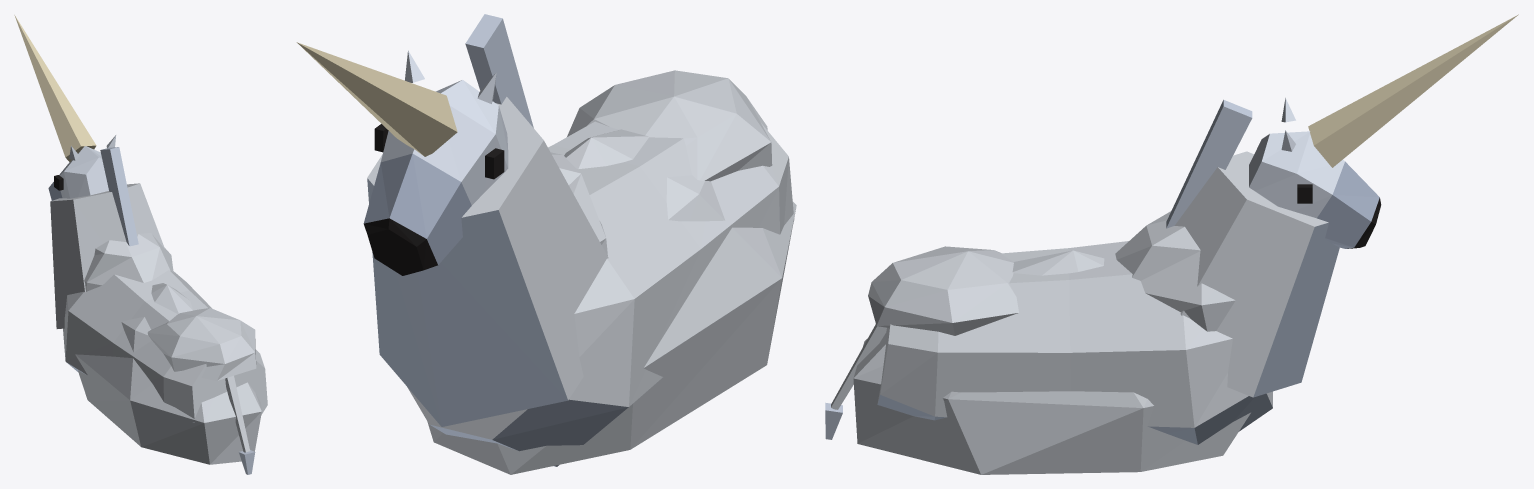
Rendered from animal_thrumbo.obj.
3 views of the same model, side by side, from view 1: azimuth 30°, elevation 25°; view 2: azimuth 150°, elevation 25°; view 3: azimuth 270°, elevation 25° (orthographic). The views are drawn at different scales.
Visible parts, largest first — view 1: animal_thrumbo; view 2: animal_thrumbo; view 3: animal_thrumbo.
Part boxes in pixels (<box>): animal_thrumbo: <box>14,15,267,474</box>; animal_thrumbo: <box>296,14,796,474</box>; animal_thrumbo: <box>825,14,1518,474</box>.
Size of the model in its own units: 1.15 by 2.61 by 3.72.
